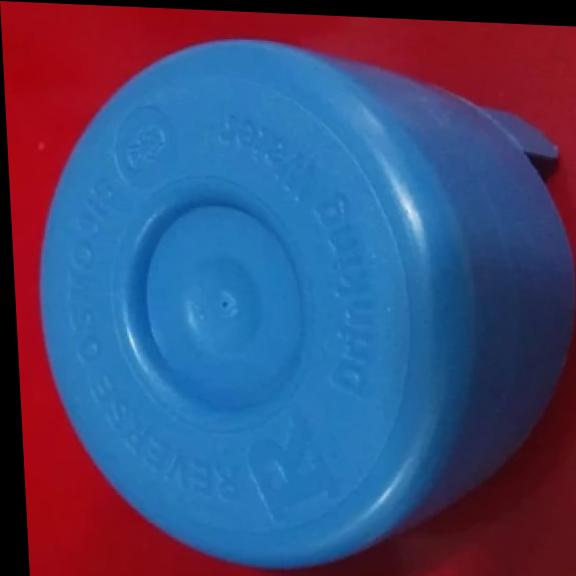Plastik: (41, 38, 576, 571)
